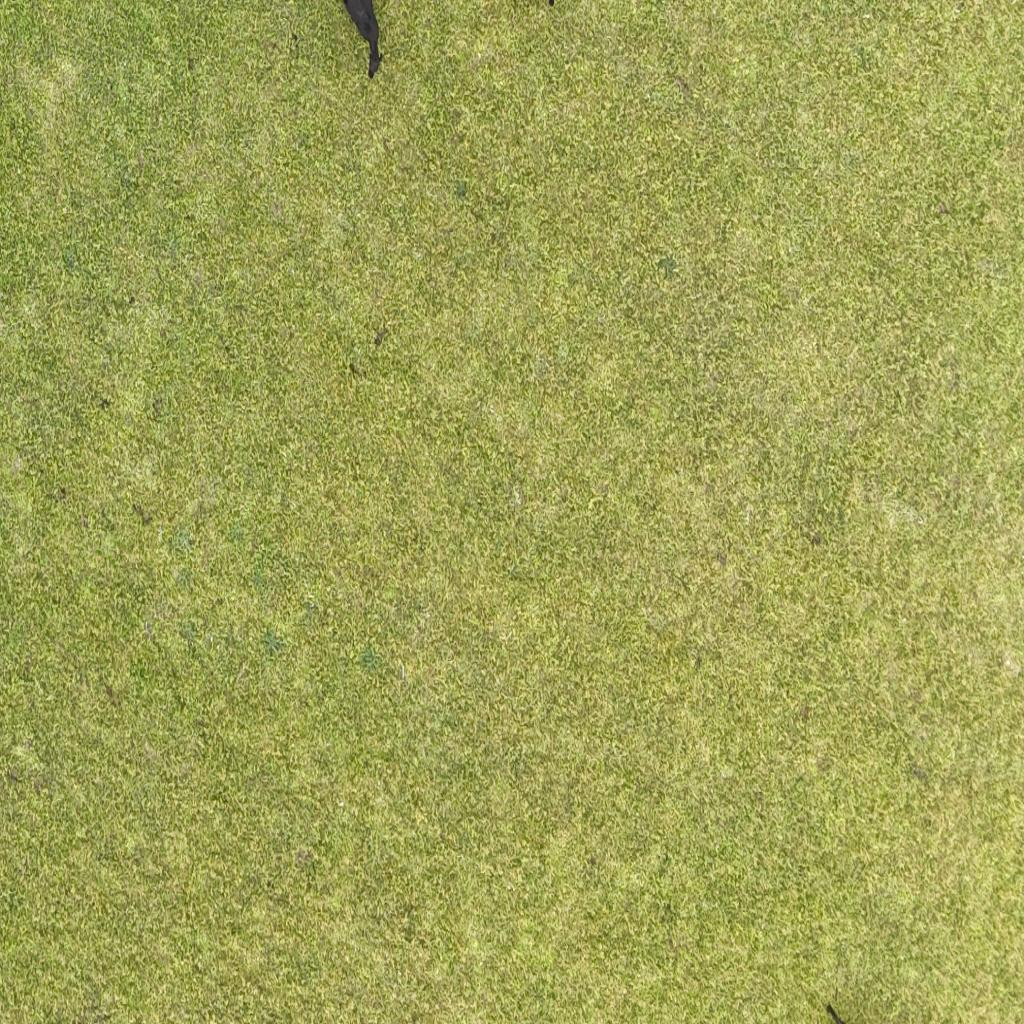cow: (338, 0, 382, 79)
